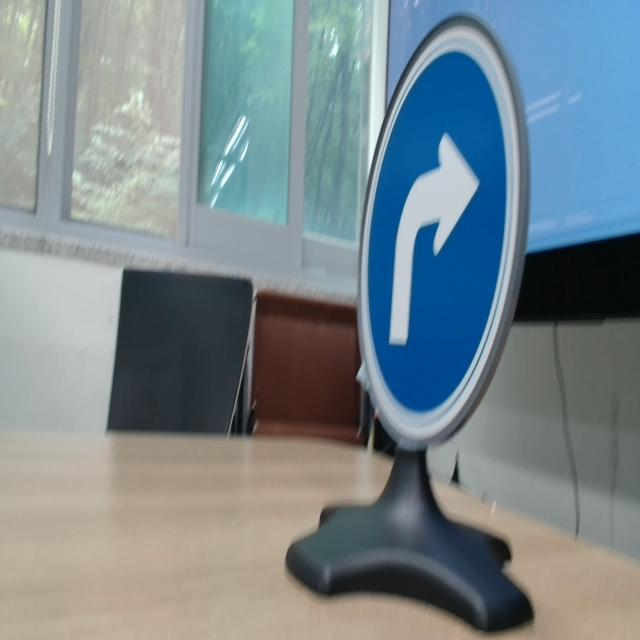right_dierection: (354, 10, 530, 442)
